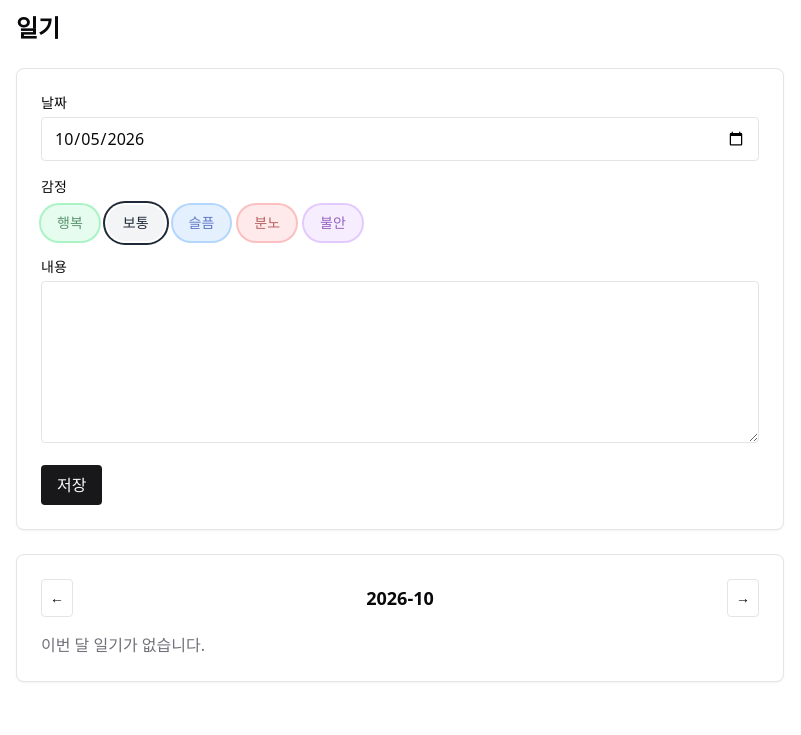
Scenario: Diary page › 내용을 입력하지 않고 저장하면 검증 오류를 표시한다
The image size is (801, 735).
Click the button "저장". click: {"x": 72, "y": 485}
box: [41,465,102,505]
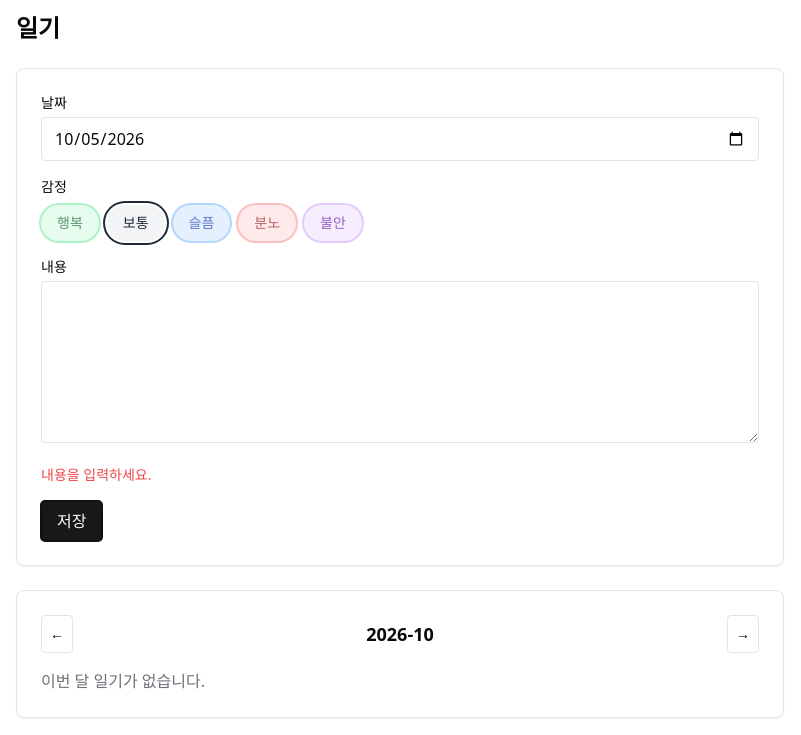
Result: the text "내용을 입력하세요." is shown at [41,465,151,484]
